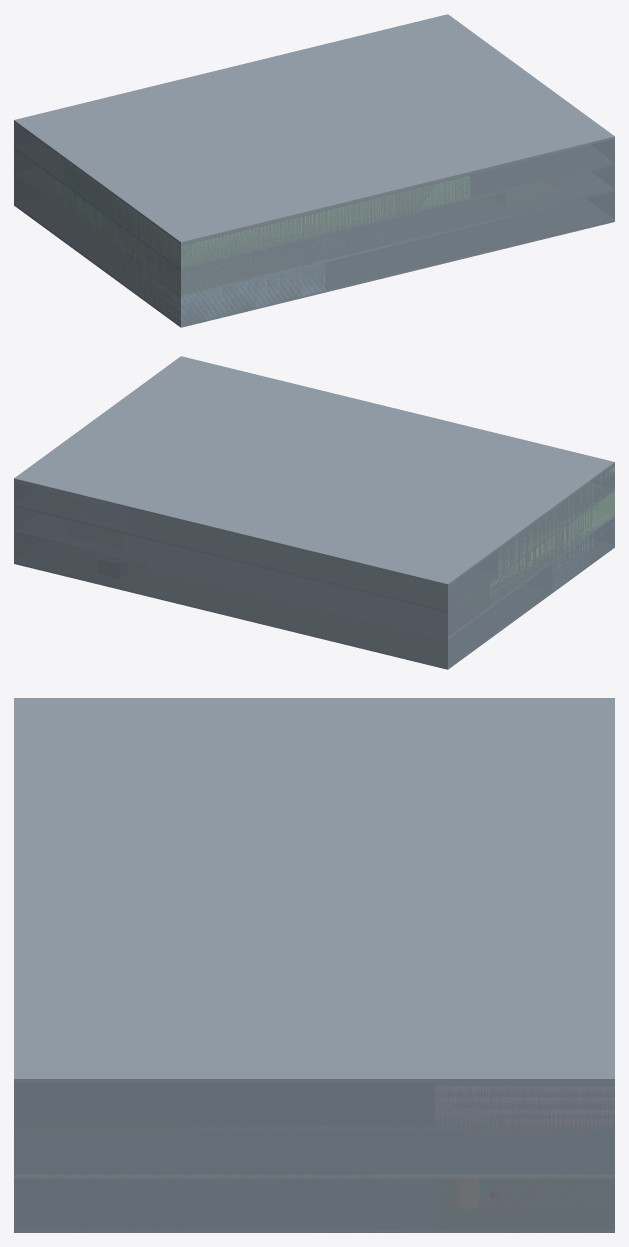
Rendered from building.glb.
3 renders of one model, top to bottom at view 1: azimuth 30°, elevation 25°; view 2: azimuth 150°, elevation 25°; view 3: azimuth 270°, elevation 25°, orthographic. The views are drawn at different scales.
Parts seen in each view (by area): view 1: Roof, Building_Shell, Zone_Office_F3, Zone_Lobby, Floor_3, Floor_2, Floor_1, Zone_Office_F2; view 2: Roof, Building_Shell, Floor_2, Floor_1, Zone_Office_F2, Floor_3, Zone_Office_F3, Zone_Mechanical; view 3: Roof, Building_Shell, Zone_Mechanical, Zone_Executive, Floor_2, Floor_3, Floor_1.
Boxes of the visible parts, left/top/right/bottom form: Roof: left=14, top=14, right=614, bottom=244; Building_Shell: left=14, top=122, right=614, bottom=326; Zone_Office_F3: left=91, top=176, right=469, bottom=267; Zone_Lobby: left=118, top=252, right=325, bottom=324; Floor_3: left=14, top=147, right=614, bottom=270; Floor_2: left=14, top=173, right=598, bottom=297; Floor_1: left=14, top=204, right=613, bottom=327; Zone_Office_F2: left=56, top=180, right=351, bottom=294; Roof: left=14, top=356, right=614, bottom=586; Building_Shell: left=14, top=464, right=614, bottom=669; Floor_2: left=27, top=515, right=614, bottom=639; Floor_1: left=16, top=545, right=614, bottom=669; Zone_Office_F2: left=490, top=491, right=614, bottom=601; Floor_3: left=15, top=489, right=614, bottom=612; Zone_Office_F3: left=498, top=466, right=614, bottom=572; Zone_Mechanical: left=46, top=543, right=121, bottom=587; Roof: left=14, top=698, right=614, bottom=1082; Building_Shell: left=14, top=1083, right=614, bottom=1232; Zone_Mechanical: left=435, top=1178, right=614, bottom=1228; Zone_Executive: left=435, top=1086, right=614, bottom=1126; Floor_2: left=14, top=1174, right=614, bottom=1178; Floor_3: left=14, top=1126, right=614, bottom=1130; Floor_1: left=14, top=1229, right=614, bottom=1232.
Bounding box in the file's own units: 60 × 11.3 × 40.
